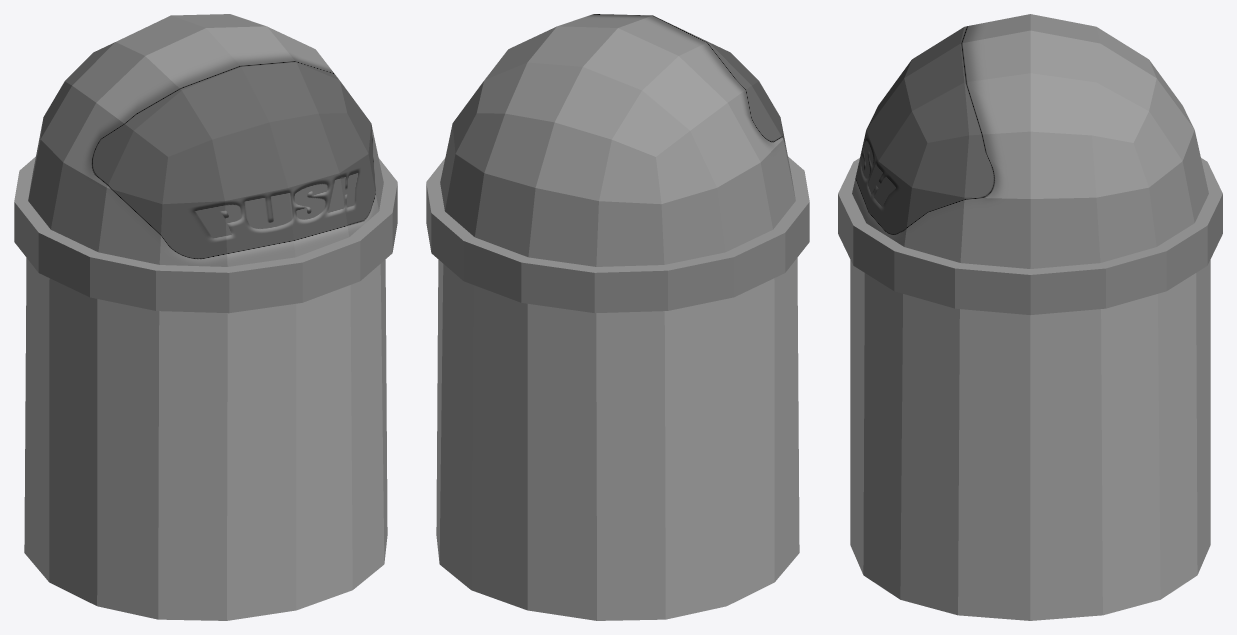
File: bin.fbx
The picture shows the model from 3 angles, left to right: view 1: azimuth 30°, elevation 25°; view 2: azimuth 150°, elevation 25°; view 3: azimuth 270°, elevation 25°; orthographic projection.
Parts seen in each view (by area): view 1: Cube; view 2: Cube; view 3: Cube.
Part boxes in pixels (x1,y1,x2,y2): Cube: [14, 14, 397, 620]; Cube: [426, 14, 809, 620]; Cube: [838, 14, 1222, 620].
Size of the model in its own units: 183 by 270 by 183.
